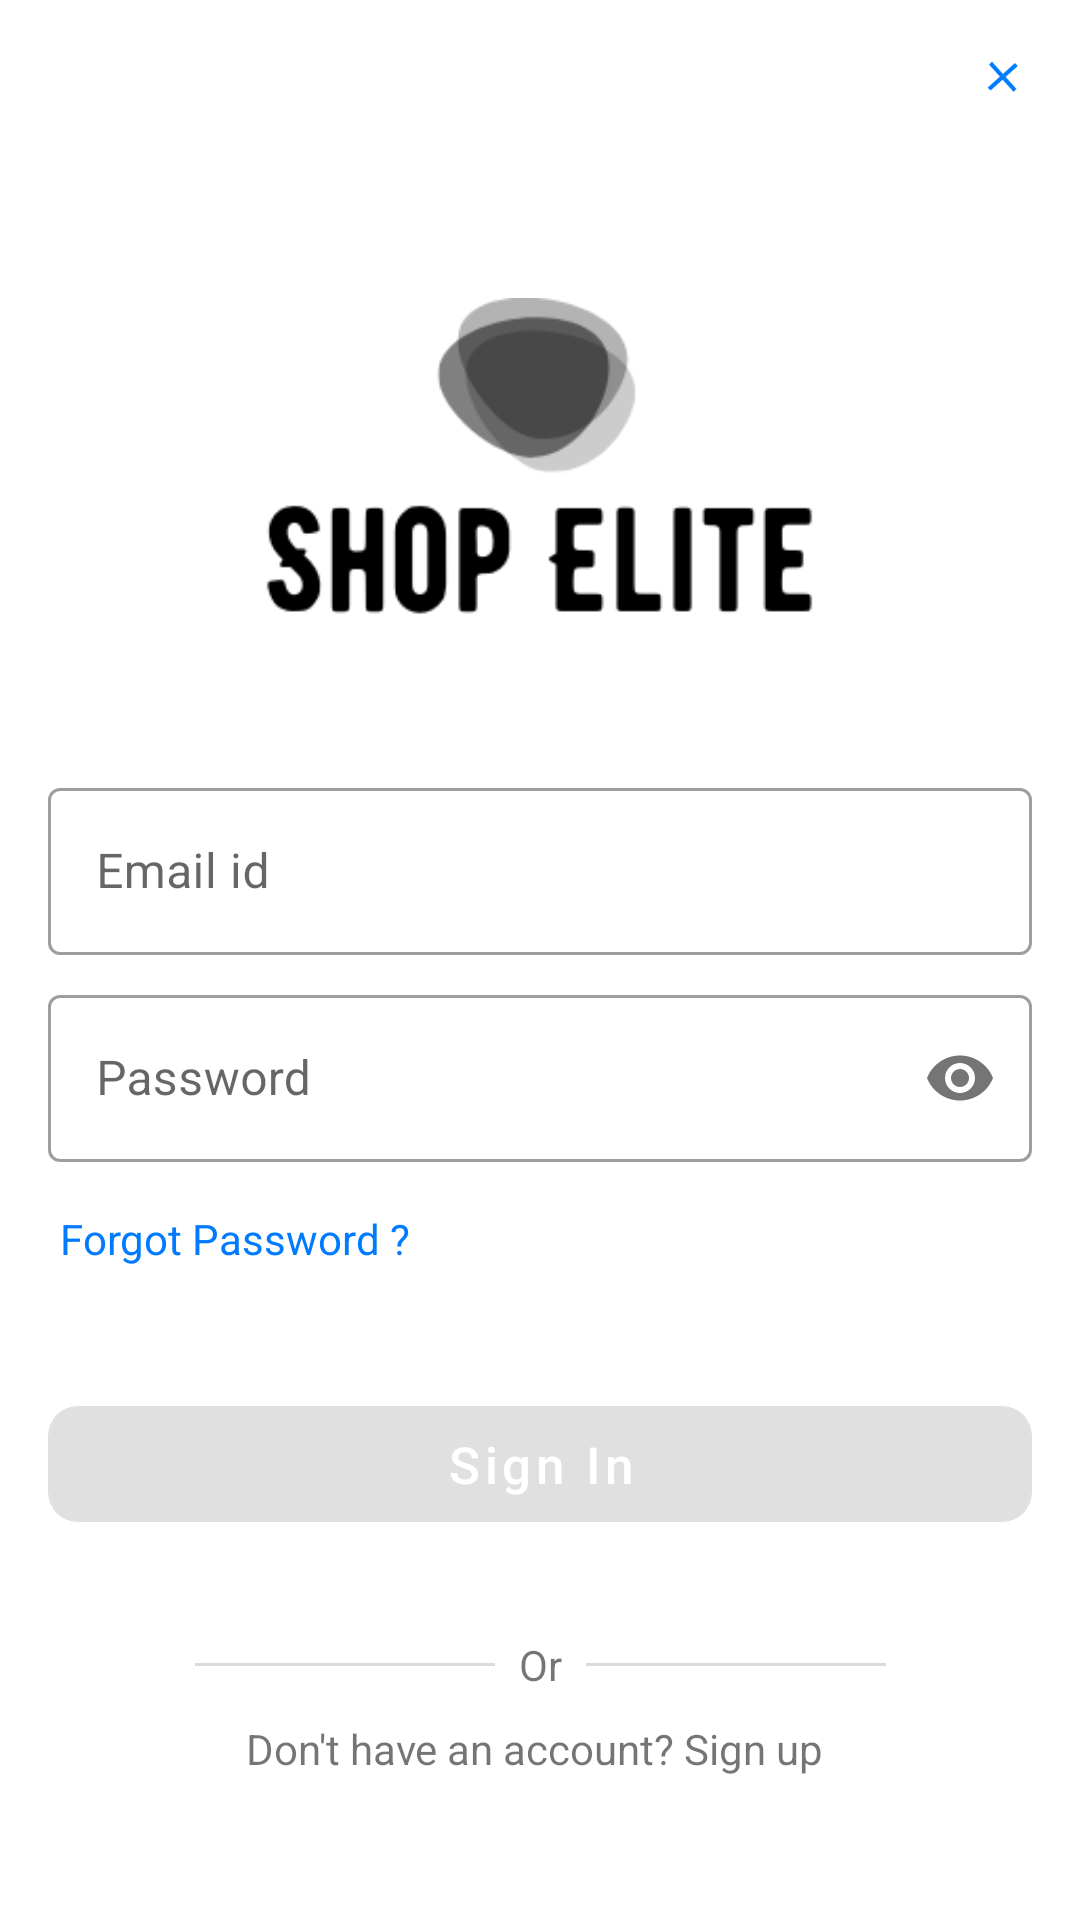

Icon click points for this 1080w x 1920h phone screenshot, format (x,y):
close cross: (1002,76)
